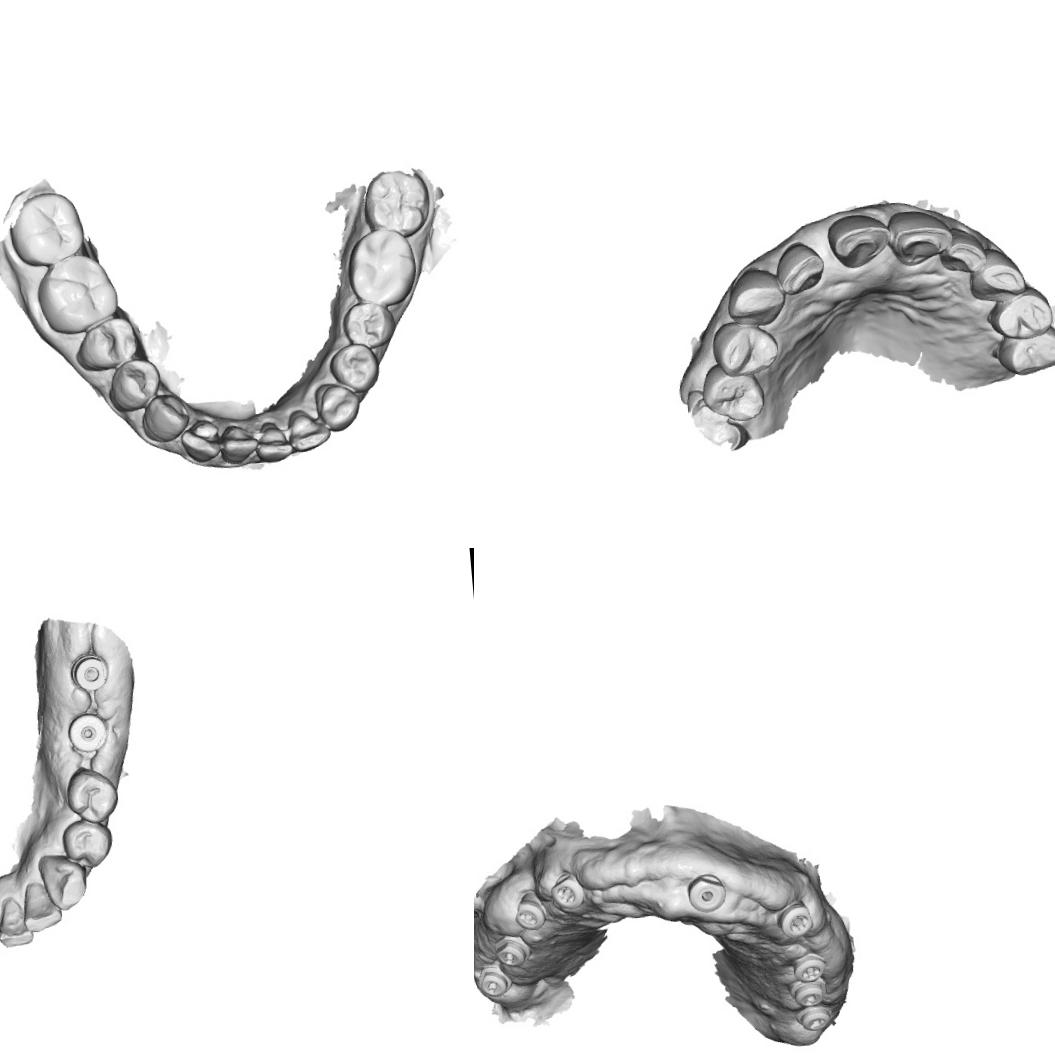canine: (723, 263, 787, 331), (136, 384, 198, 449), (966, 245, 1026, 304), (36, 850, 90, 912), (311, 377, 364, 434)
implant: (65, 710, 109, 754), (685, 871, 728, 915), (67, 650, 110, 693)
implant_minus: (475, 957, 514, 998), (511, 888, 547, 932), (491, 932, 532, 968), (794, 1002, 834, 1032), (788, 980, 824, 1008)
implant_plus: (775, 900, 815, 940), (548, 870, 586, 912), (791, 951, 827, 984)
incisor: (888, 203, 955, 269), (824, 210, 894, 270), (772, 238, 826, 298), (939, 223, 988, 276), (19, 878, 64, 934), (175, 415, 223, 467), (284, 405, 334, 454), (213, 419, 260, 468), (250, 418, 296, 466), (0, 895, 34, 949)
molar: (30, 247, 123, 337), (342, 222, 422, 310), (4, 188, 87, 270), (356, 168, 435, 241)
premolar: (708, 317, 782, 380), (71, 314, 144, 376), (698, 360, 766, 425), (103, 353, 166, 416), (982, 287, 1055, 341), (322, 337, 382, 398), (64, 762, 120, 826), (994, 321, 1055, 375), (338, 298, 398, 352), (60, 816, 115, 871)
